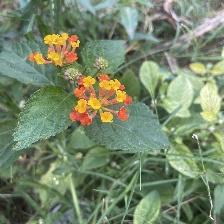common lanthana: (72, 73, 135, 133)
